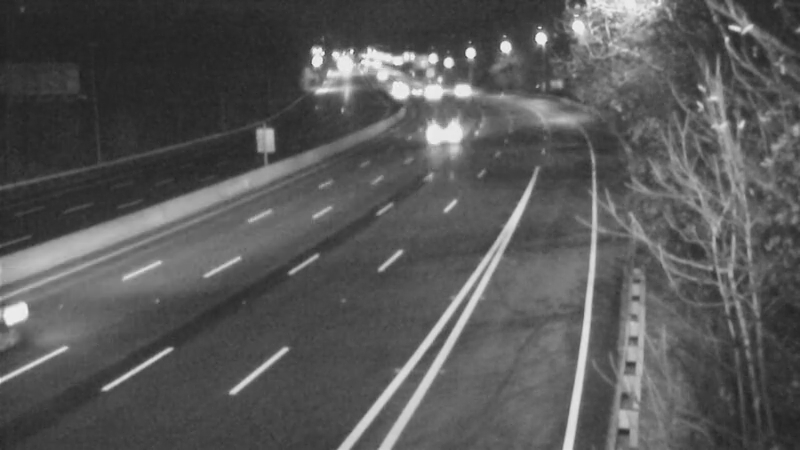vehicle: (1, 266, 91, 376), (436, 64, 486, 114), (409, 67, 459, 117), (392, 68, 442, 118), (375, 66, 425, 116), (424, 101, 474, 151)
